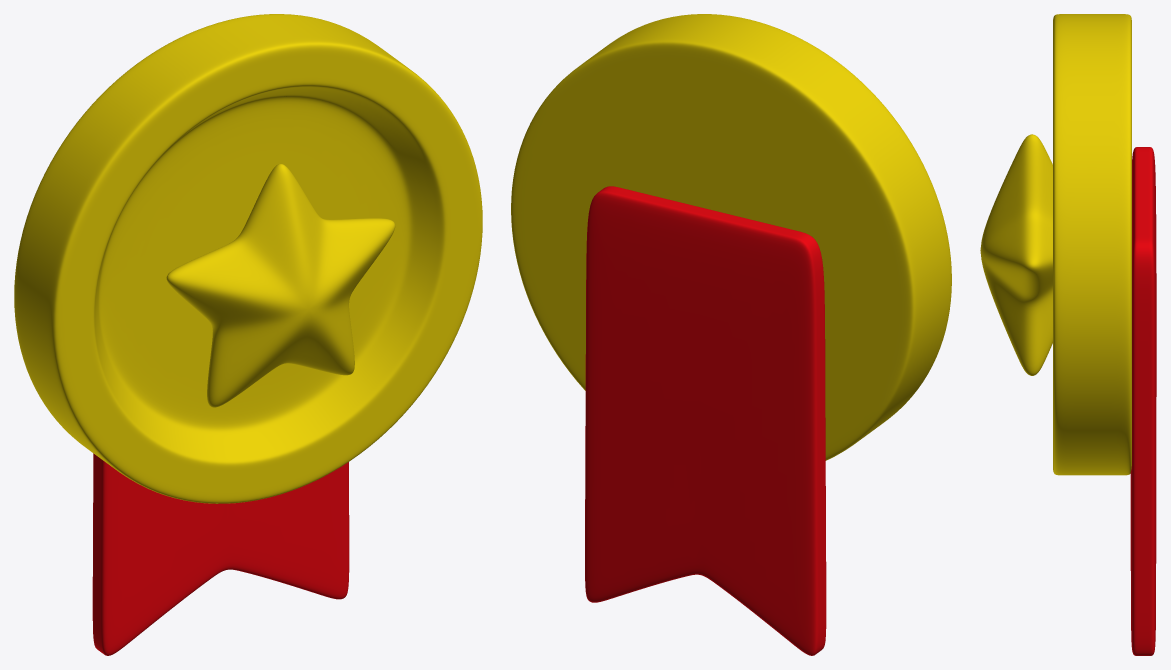
File: medal.glb
3 renders of one model, left to right at view 1: azimuth 30°, elevation 25°; view 2: azimuth 150°, elevation 25°; view 3: azimuth 270°, elevation 25°, orthographic. The views are drawn at different scales.
Parts seen in each view (by area): view 1: Cube.037; view 2: Cube.037; view 3: Cube.037.
Part boxes in pixels (left/top/right/bottom): Cube.037: left=14, top=14, right=482, bottom=655; Cube.037: left=511, top=14, right=951, bottom=655; Cube.037: left=980, top=14, right=1156, bottom=655.
Size of the model in its own units: 1.42 by 1.93 by 0.5421.
